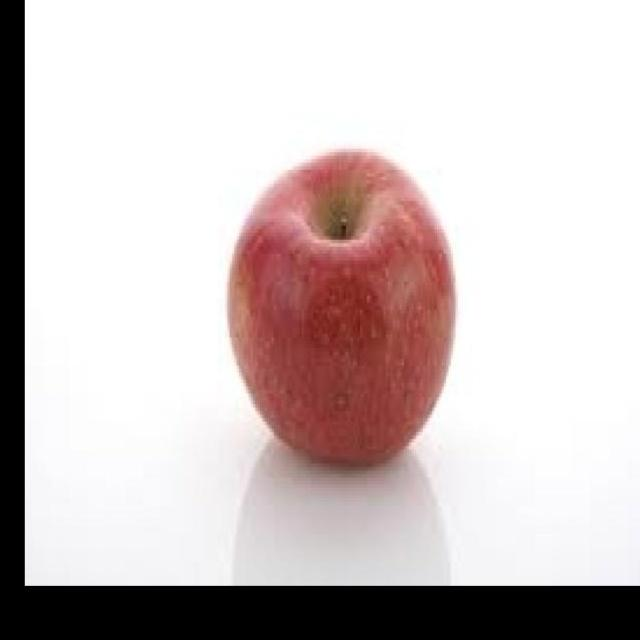red apple: (228, 146, 460, 471)
